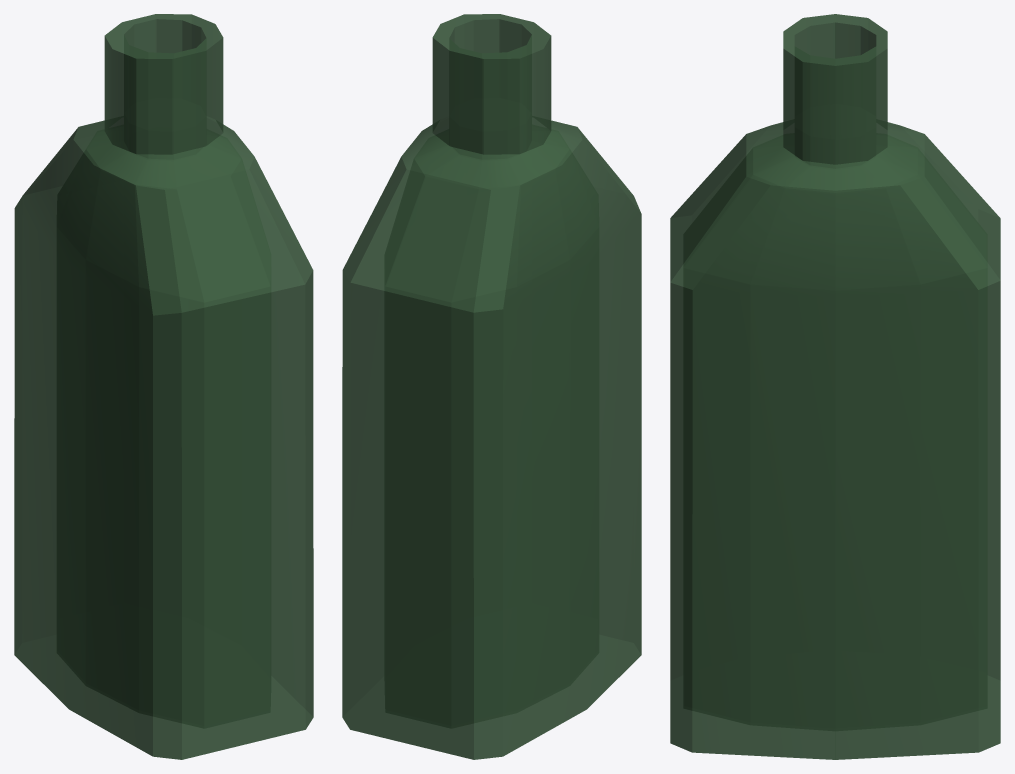
The model's file is CoffinGlass.fbx.
The picture shows the model from 3 angles, left to right: view 1: azimuth 30°, elevation 25°; view 2: azimuth 150°, elevation 25°; view 3: azimuth 270°, elevation 25°; orthographic projection. The views are drawn at different scales.
Parts seen in each view (by area): view 1: pCube2; view 2: pCube2; view 3: pCube2.
Part boxes in pixels (bbox=[...]): pCube2: bbox=[14, 14, 313, 759]; pCube2: bbox=[342, 14, 641, 759]; pCube2: bbox=[670, 14, 1000, 759].
Bounding box in the file's own units: 1.6 × 5.23 × 2.33.
